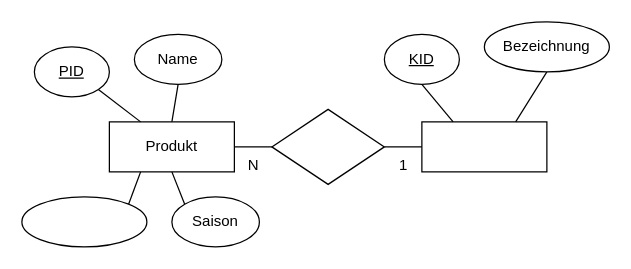
The diagram is 631 pixels wide and 269 high, and some of its shapes have lost their labels. The box of each missing label's shape, as (x1, y1, x2, y2) in pixels:
Bio Zertifizierung: (21, 196, 147, 247)
gehört zu: (271, 108, 384, 184)
Kategorie: (421, 121, 547, 172)
